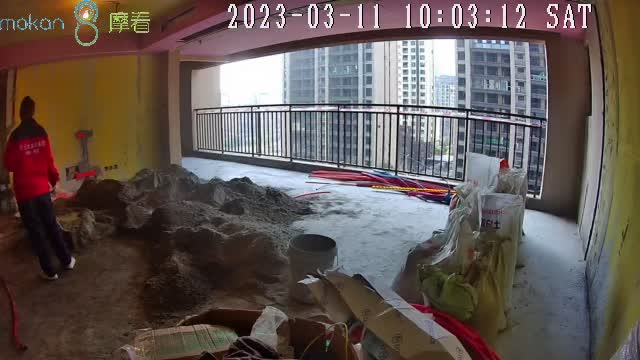people: (6, 96, 75, 280)
window: (191, 37, 546, 199)
